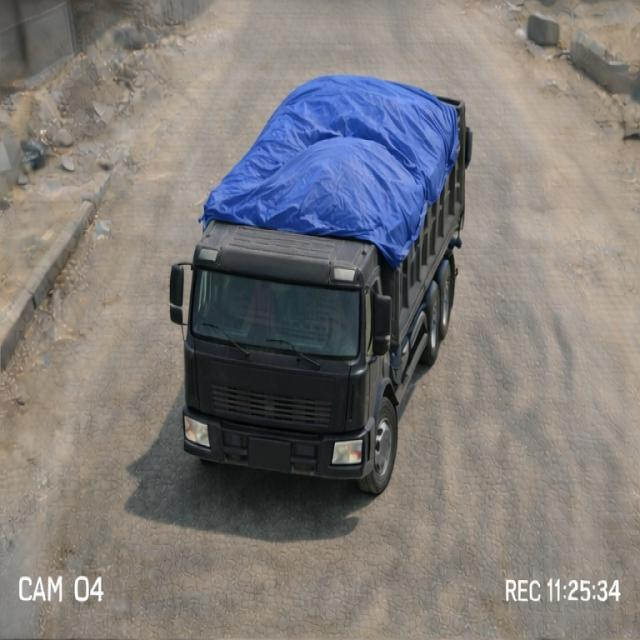Box: (205, 75, 483, 229)
Truck: (170, 47, 506, 490)
